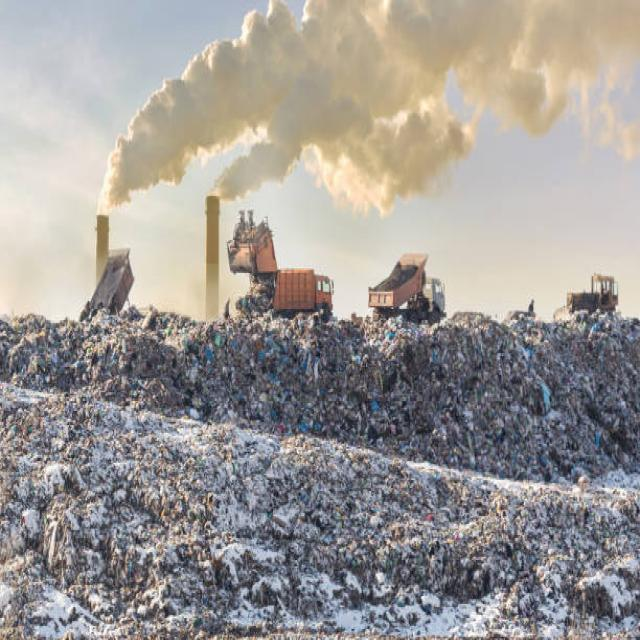plastic: (28, 359, 573, 621)
